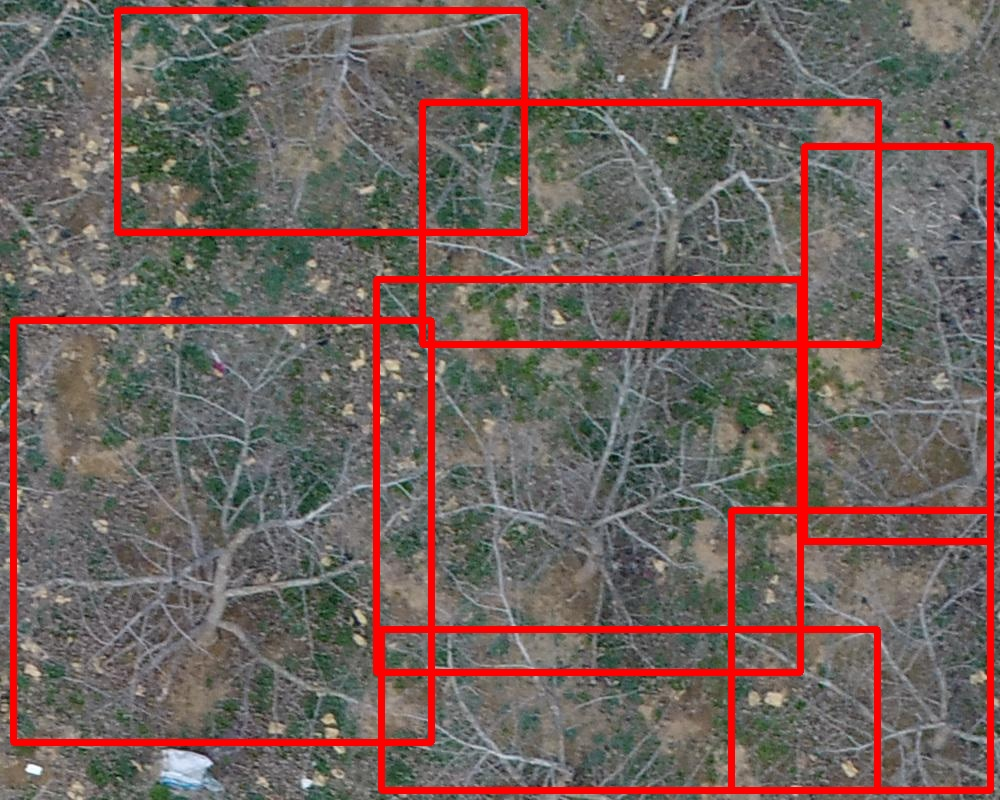apple: (13, 320, 431, 742), (376, 279, 800, 672), (422, 102, 878, 344), (117, 10, 524, 232), (381, 629, 877, 790), (804, 146, 990, 541), (731, 510, 990, 790)
